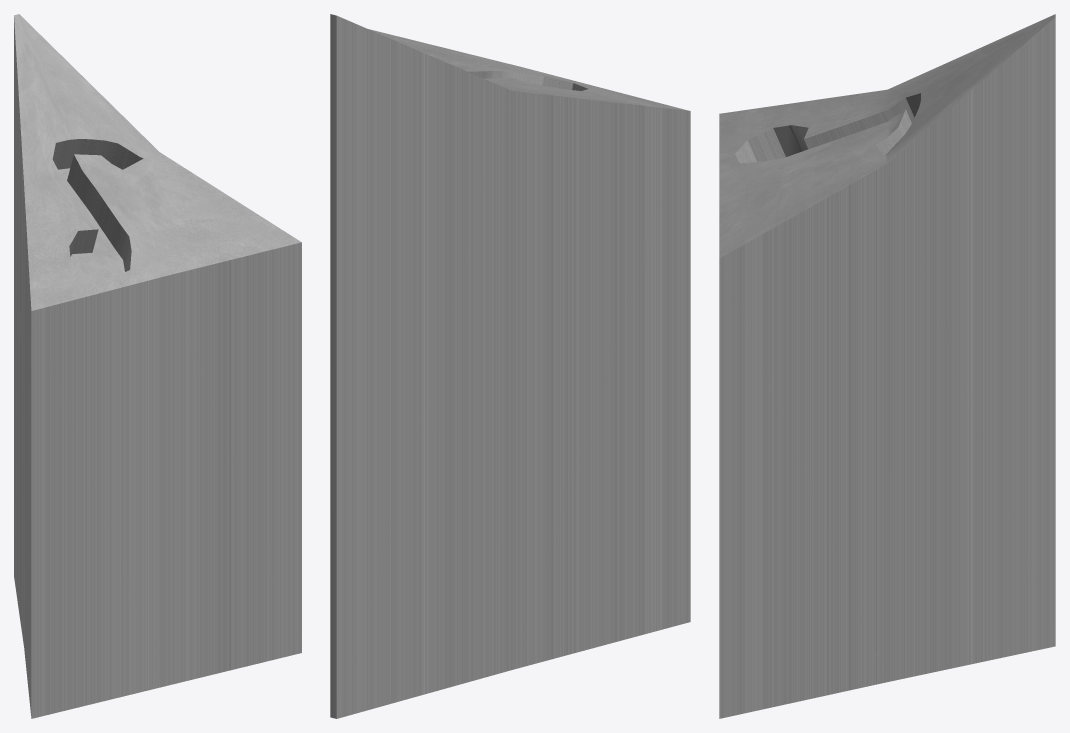
The model's file is Obstacle6.fbx.
The picture shows the model from 3 angles, left to right: view 1: azimuth 30°, elevation 25°; view 2: azimuth 150°, elevation 25°; view 3: azimuth 270°, elevation 25°; orthographic projection. The views are drawn at different scales.
Parts seen in each view (by area): view 1: Object8; view 2: Object8; view 3: Object8.
Boxes of the visible parts, box(x1,y1,x2,y2) form: Object8: box(14, 14, 301, 718); Object8: box(330, 14, 690, 718); Object8: box(719, 14, 1055, 718).
Bounding box in the file's own units: 3.75 × 7.43 × 3.6.
Materials: 1 (1 with a texture image).
